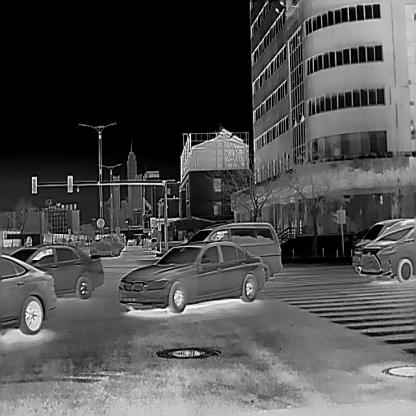car: (117, 240, 265, 312), (186, 221, 283, 282), (8, 242, 104, 298), (0, 252, 57, 335), (359, 218, 415, 282), (352, 218, 408, 274), (127, 238, 133, 245)
